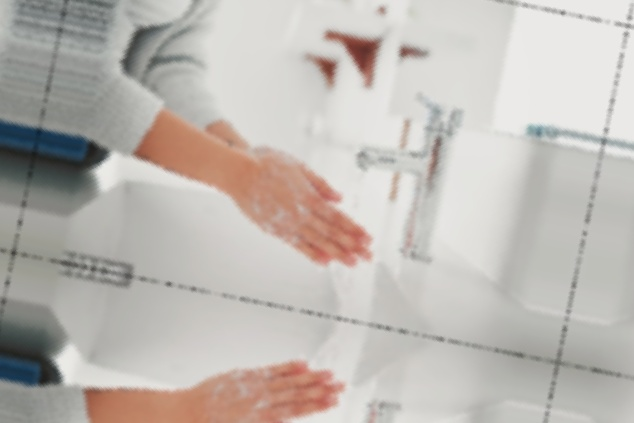washing hand: (200, 0, 515, 328)
